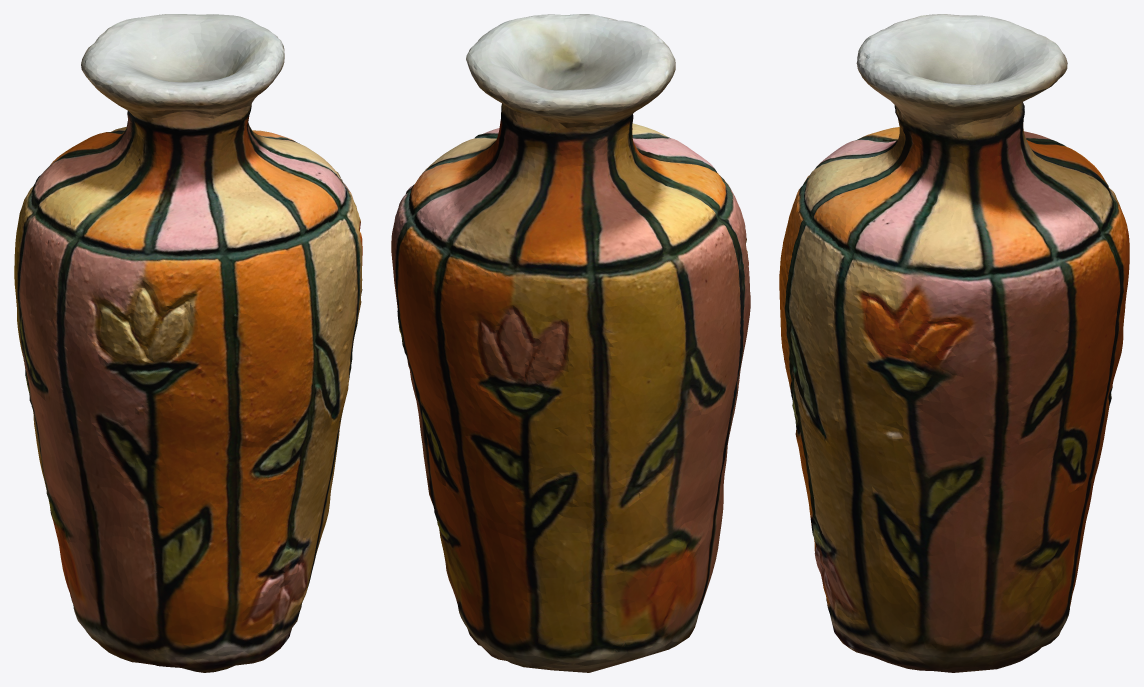
3 views of the same model, side by side, from view 1: azimuth 30°, elevation 25°; view 2: azimuth 150°, elevation 25°; view 3: azimuth 270°, elevation 25° (orthographic).
Bounding box in the file's own units: 0.0584 × 0.1066 × 0.0571.
Materials: 1 (1 with a texture image).
